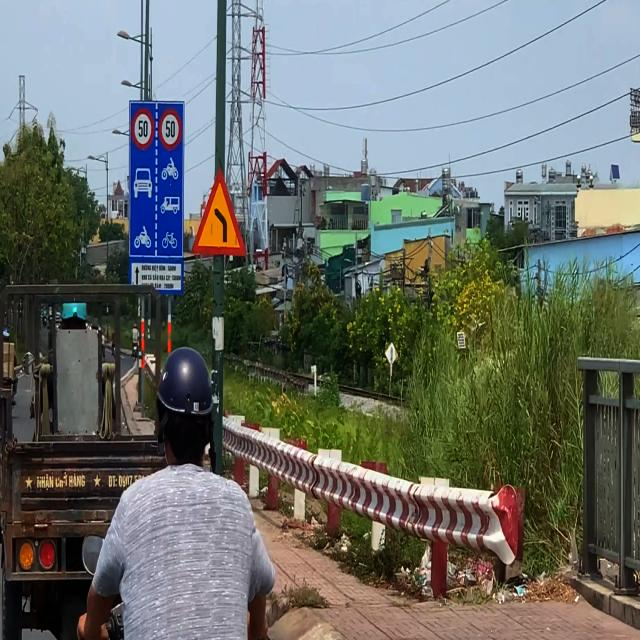Nguy hiem: (190, 166, 247, 257)
Toc do toi da: (131, 107, 155, 150), (158, 108, 182, 151)
